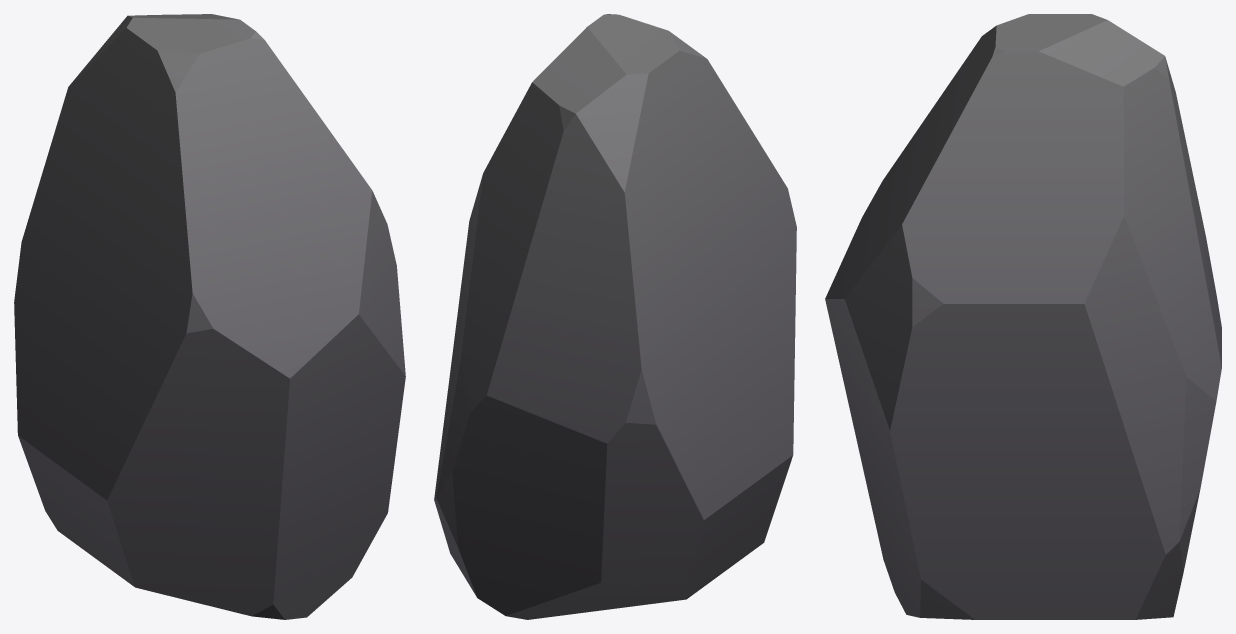
File: Rock_05.fbx
3 renders of one model, left to right at view 1: azimuth 30°, elevation 25°; view 2: azimuth 150°, elevation 25°; view 3: azimuth 270°, elevation 25°, orthographic. The views are drawn at different scales.
Parts seen in each view (by area): view 1: Rock_05_LOD0; view 2: Rock_05_LOD0; view 3: Rock_05_LOD0.
Part boxes in pixels (bbox=[...]): Rock_05_LOD0: bbox=[14, 14, 405, 619]; Rock_05_LOD0: bbox=[434, 14, 796, 619]; Rock_05_LOD0: bbox=[825, 14, 1221, 619].
Size of what is drawn, in the model's own units: 0.4386 by 0.872 by 0.5577.
